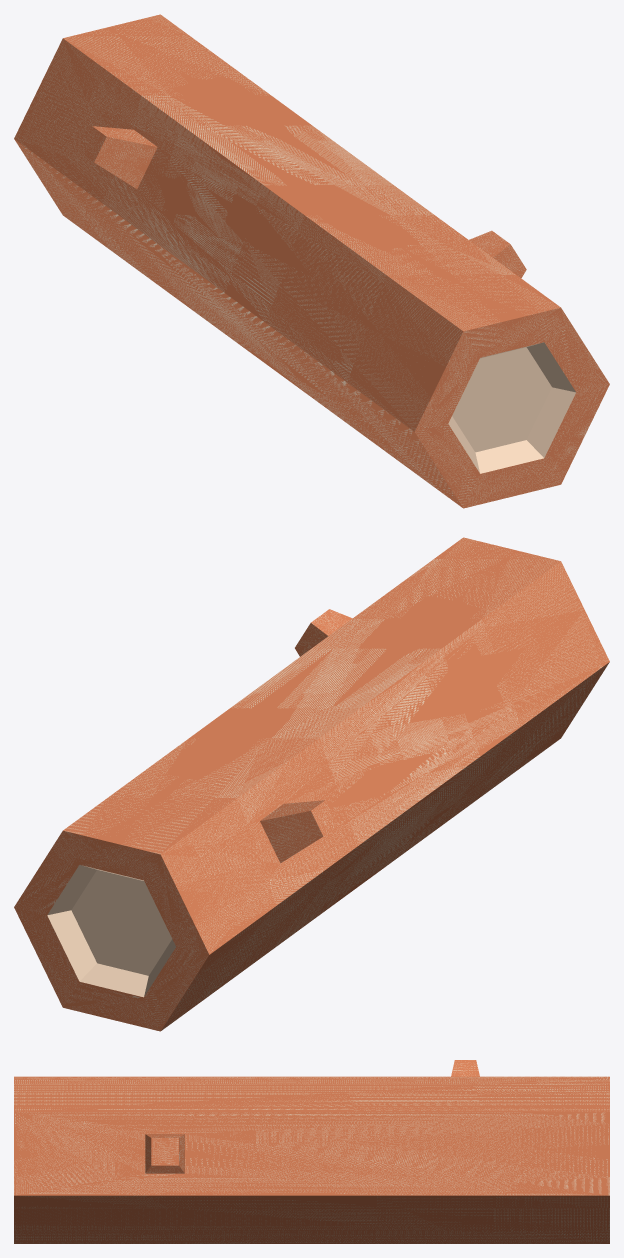
The model's file is log.obj.
3 views of the same model, one above another, from view 1: azimuth 30°, elevation 25°; view 2: azimuth 150°, elevation 25°; view 3: azimuth 270°, elevation 25° (orthographic). The views are drawn at different scales.
Bounding box in the file's own units: 0.234 × 0.1732 × 0.71.
